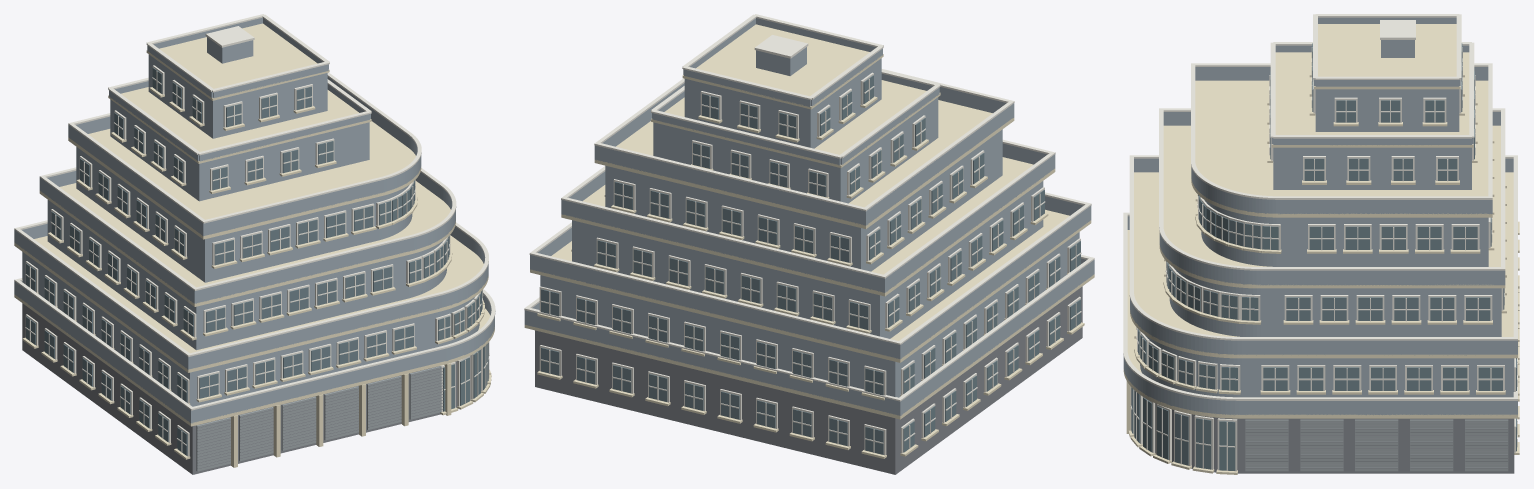
Rendered from edificio-garcia.glb.
The picture shows the model from 3 angles, left to right: view 1: azimuth 30°, elevation 25°; view 2: azimuth 150°, elevation 25°; view 3: azimuth 270°, elevation 25°; orthographic projection. The views are drawn at different scales.
Parts seen in each view (by area): view 1: edificio-garcia · Cuerpo 2 oeste, edificio-garcia · Cuerpo 3 oeste, edificio-garcia · Volumen superior 0, edificio-garcia · Cuerpo 1 oeste, edificio-garcia · Cuerpo 0 oeste, edificio-garcia · Losa terraza 3 oeste, edificio-garcia · Cubierta superior 1, edificio-garcia · Volumen superior 1, edificio-garcia · Cubierta superior 0, edificio-garcia · Losa terraza 2 oeste, edificio-garcia · Losa terraza 1 oeste, edificio-garcia · Antepecho 0 frente (+41 smaller); view 2: edificio-garcia · Cuerpo 0 oeste, edificio-garcia · Cuerpo 2 oeste, edificio-garcia · Cuerpo 1 oeste, edificio-garcia · Cuerpo 3 oeste, edificio-garcia · Volumen superior 0, edificio-garcia · Cubierta superior 1, edificio-garcia · Antepecho 1 fondo, edificio-garcia · Volumen superior 1, edificio-garcia · Antepecho 0 fondo, edificio-garcia · Antepecho 2 fondo, edificio-garcia · Losa terraza 3 oeste, edificio-garcia · Antepecho 3 fondo (+33 smaller); view 3: edificio-garcia · Losa terraza 3 oeste, edificio-garcia · Cuerpo 2 norte, edificio-garcia · Cubierta superior 1, edificio-garcia · Cuerpo 3 norte, edificio-garcia · Volumen superior 0, edificio-garcia · Cuerpo 1 norte, edificio-garcia · Losa terraza 1 oeste, edificio-garcia · Cubierta superior 0, edificio-garcia · Cuerpo 0 norte, edificio-garcia · Losa terraza 2 oeste, edificio-garcia · Volumen superior 1, edificio-garcia · Antepecho 1 lateral (+83 smaller).
Part boxes in pixels (<box>): edificio-garcia · Cuerpo 2 oeste: <box>47,200,406,350</box>; edificio-garcia · Cuerpo 3 oeste: <box>76,147,377,282</box>; edificio-garcia · Volumen superior 0: <box>110,99,369,201</box>; edificio-garcia · Cuerpo 1 oeste: <box>22,252,434,406</box>; edificio-garcia · Cuerpo 0 oeste: <box>22,303,438,474</box>; edificio-garcia · Losa terraza 3 oeste: <box>68,129,381,239</box>; edificio-garcia · Cubierta superior 1: <box>146,23,329,100</box>; edificio-garcia · Volumen superior 1: <box>148,54,327,138</box>; edificio-garcia · Cubierta superior 0: <box>108,87,371,163</box>; edificio-garcia · Losa terraza 2 oeste: <box>39,183,410,306</box>; edificio-garcia · Losa terraza 1 oeste: <box>14,236,438,372</box>; edificio-garcia · Antepecho 0 frente: <box>189,349,443,423</box>; edificio-garcia · Cuerpo 0 oeste: <box>625,286,1082,474</box>; edificio-garcia · Cuerpo 2 oeste: <box>649,181,1043,338</box>; edificio-garcia · Cuerpo 1 oeste: <box>627,232,1079,397</box>; edificio-garcia · Cuerpo 3 oeste: <box>672,129,1002,271</box>; edificio-garcia · Volumen superior 0: <box>653,97,938,203</box>; edificio-garcia · Cubierta superior 1: <box>682,24,883,109</box>; edificio-garcia · Antepecho 1 fondo: <box>530,255,901,358</box>; edificio-garcia · Volumen superior 1: <box>684,58,881,148</box>; edificio-garcia · Antepecho 0 fondo: <box>524,311,901,415</box>; edificio-garcia · Antepecho 2 fondo: <box>561,200,886,292</box>; edificio-garcia · Losa terraza 3 oeste: <box>670,100,1014,228</box>; edificio-garcia · Antepecho 3 fondo: <box>594,146,867,225</box>; edificio-garcia · Losa terraza 3 oeste: <box>1195,80,1488,176</box>; edificio-garcia · Cuerpo 2 norte: <box>1260,288,1501,336</box>; edificio-garcia · Cubierta superior 1: <box>1314,24,1460,89</box>; edificio-garcia · Cuerpo 3 norte: <box>1279,217,1488,266</box>; edificio-garcia · Volumen superior 0: <box>1273,147,1471,189</box>; edificio-garcia · Cuerpo 1 norte: <box>1241,358,1514,397</box>; edificio-garcia · Losa terraza 1 oeste: <box>1134,172,1513,307</box>; edificio-garcia · Cubierta superior 0: <box>1271,52,1473,147</box>; edificio-garcia · Cuerpo 0 norte: <box>1239,418,1514,473</box>; edificio-garcia · Losa terraza 2 oeste: <box>1163,125,1500,241</box>; edificio-garcia · Volumen superior 1: <box>1315,89,1459,131</box>; edificio-garcia · Antepecho 1 lateral: <box>1241,340,1517,355</box>.
Bounding box in the file's own units: 20.88 × 18.33 × 18.77.
